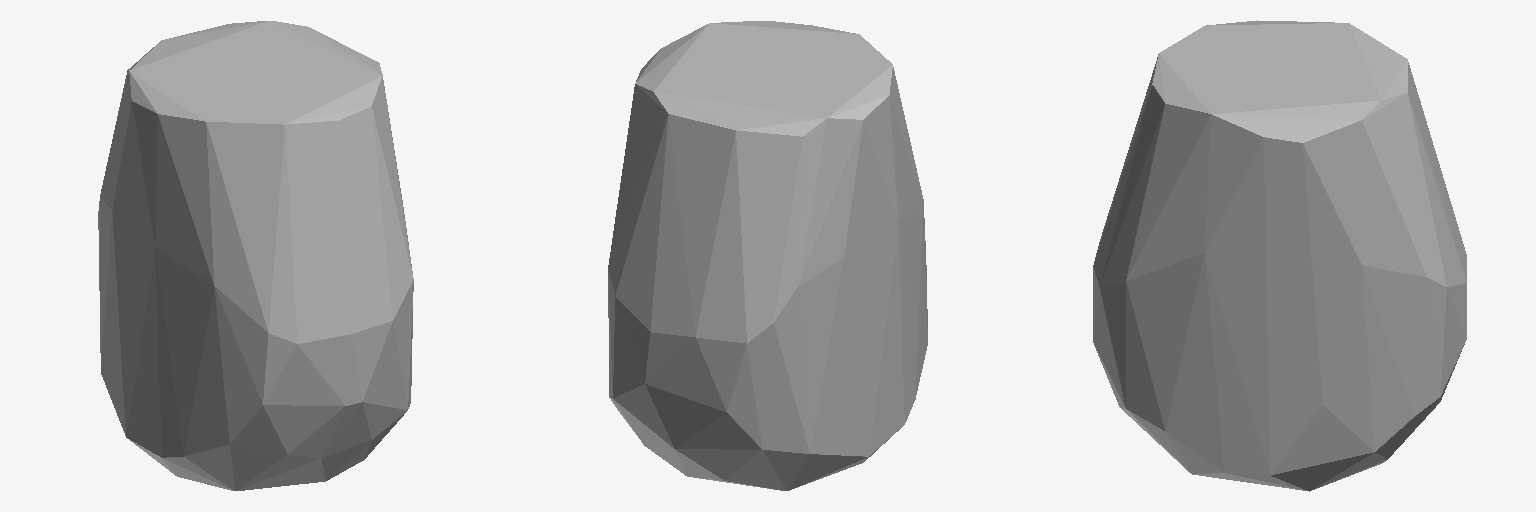
The robot description file, URDF, robot "root":
<robot name="root">
  <link name="link_other~marmite_bottle_convex_piece_0">
    <inertial>
      <origin rpy="0 0 0" xyz="0 0 0"/>
      <mass value="4.50E-01"/>
      <inertia ixx="2.41E-04" ixy="4.67E-07" ixz="9.32E-07" iyy="2.08E-04" iyz="6.38E-07" izz="1.46E-04"/>
    </inertial>
    <visual>
      <origin rpy="0 0 0" xyz="0 0 0"/>
      <geometry>
        <mesh filename="other~marmite_bottle_convex_piece_0.obj" scale="1.0000E+00 1.0000E+00 1.0000E+00"/>
      </geometry>
      <material name="">
        <color rgba="7.50E-01 7.50E-01 7.50E-01 1"/>
      </material>
    </visual>
    <collision>
      <origin rpy="0 0 0" xyz="0 0 0"/>
      <geometry>
        <mesh filename="other~marmite_bottle_convex_piece_0.obj" scale="1.0000E+00 1.0000E+00 1.0000E+00"/>
      </geometry>
    </collision>
  </link>
</robot>

--- Facts derived from the render (not from the file) ---
The picture shows the robot from 3 angles, left to right: view 1: azimuth 30°, elevation 25°; view 2: azimuth 150°, elevation 25°; view 3: azimuth 270°, elevation 25°; orthographic projection.
Robot: root — 1 links, 0 joints (none); root link link_other~marmite_bottle_convex_piece_0; default pose: every joint at zero.
Visible links, largest first — view 1: link_other~marmite_bottle_convex_piece_0; view 2: link_other~marmite_bottle_convex_piece_0; view 3: link_other~marmite_bottle_convex_piece_0.
Boxes of the visible links, x1,y1,x2,y2 form: link_other~marmite_bottle_convex_piece_0: (98, 21, 413, 490); link_other~marmite_bottle_convex_piece_0: (608, 21, 927, 490); link_other~marmite_bottle_convex_piece_0: (1093, 20, 1466, 491).
Bounding box of the posed robot: 0.0441 × 0.0613 × 0.0688 m (x, y, z).
Meshes: 1 distinct files referenced, 1 mesh visuals loaded (1 OBJ).
